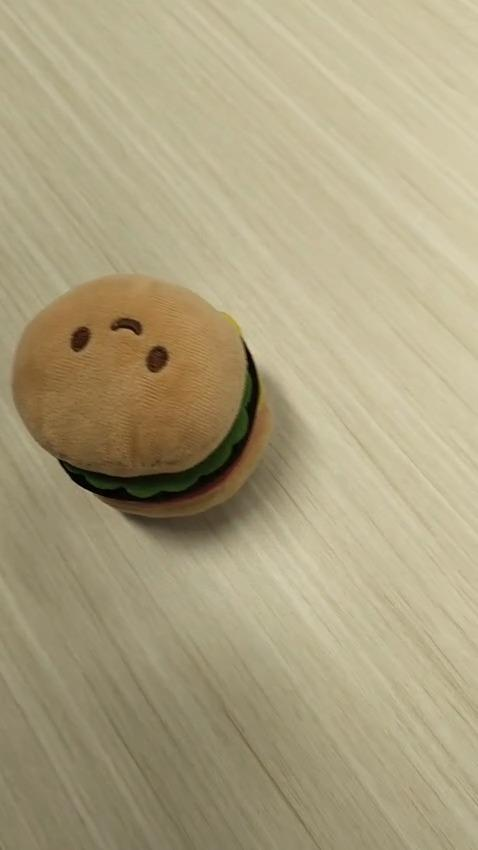hamburger: (10, 271, 273, 520)
